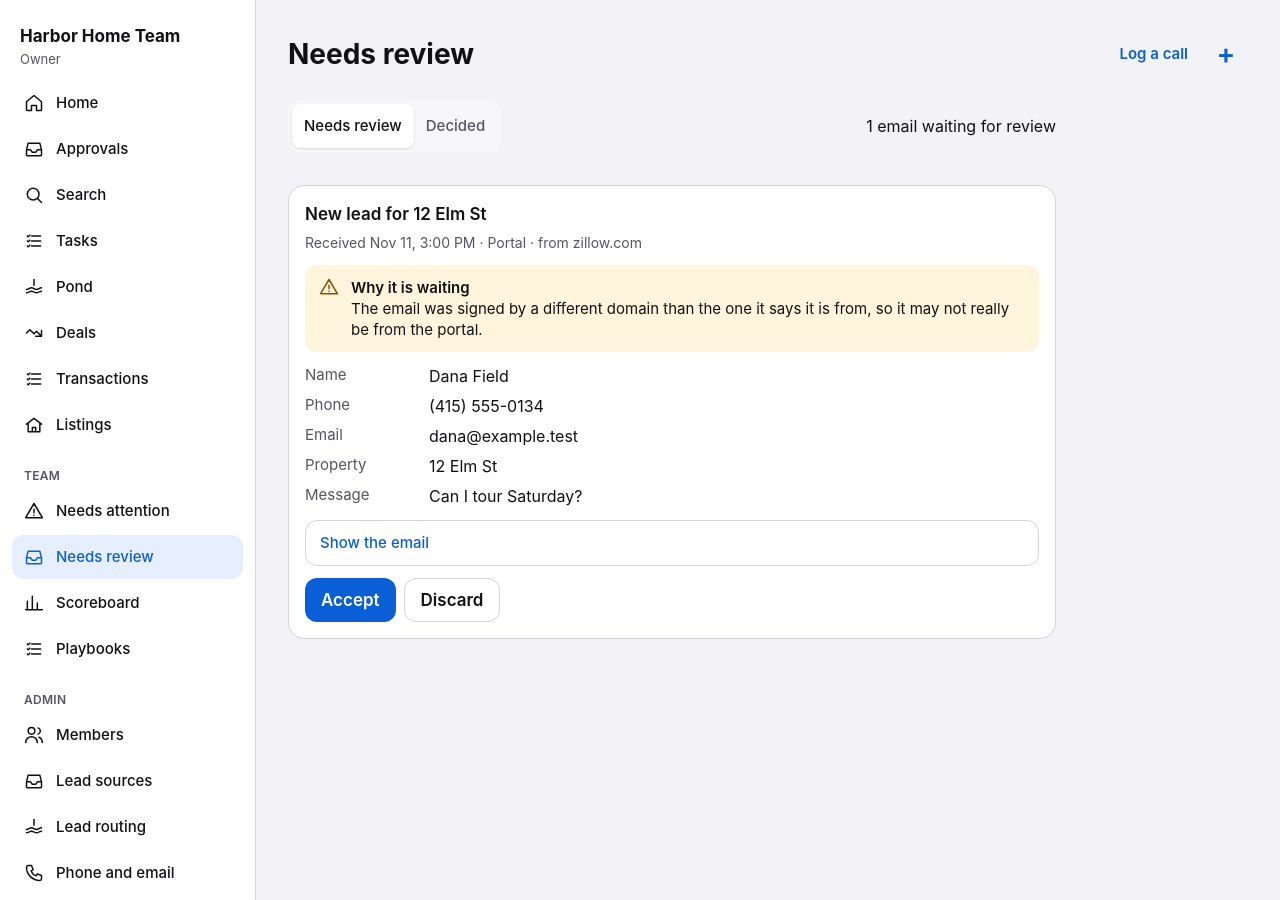
Scenario: Needs review › someone else decided first: the sentence says so and the list is fetched again
Click the button with aria-label "Accept: New lead for 12 Elm St": [350, 600] box [305,578,396,622]
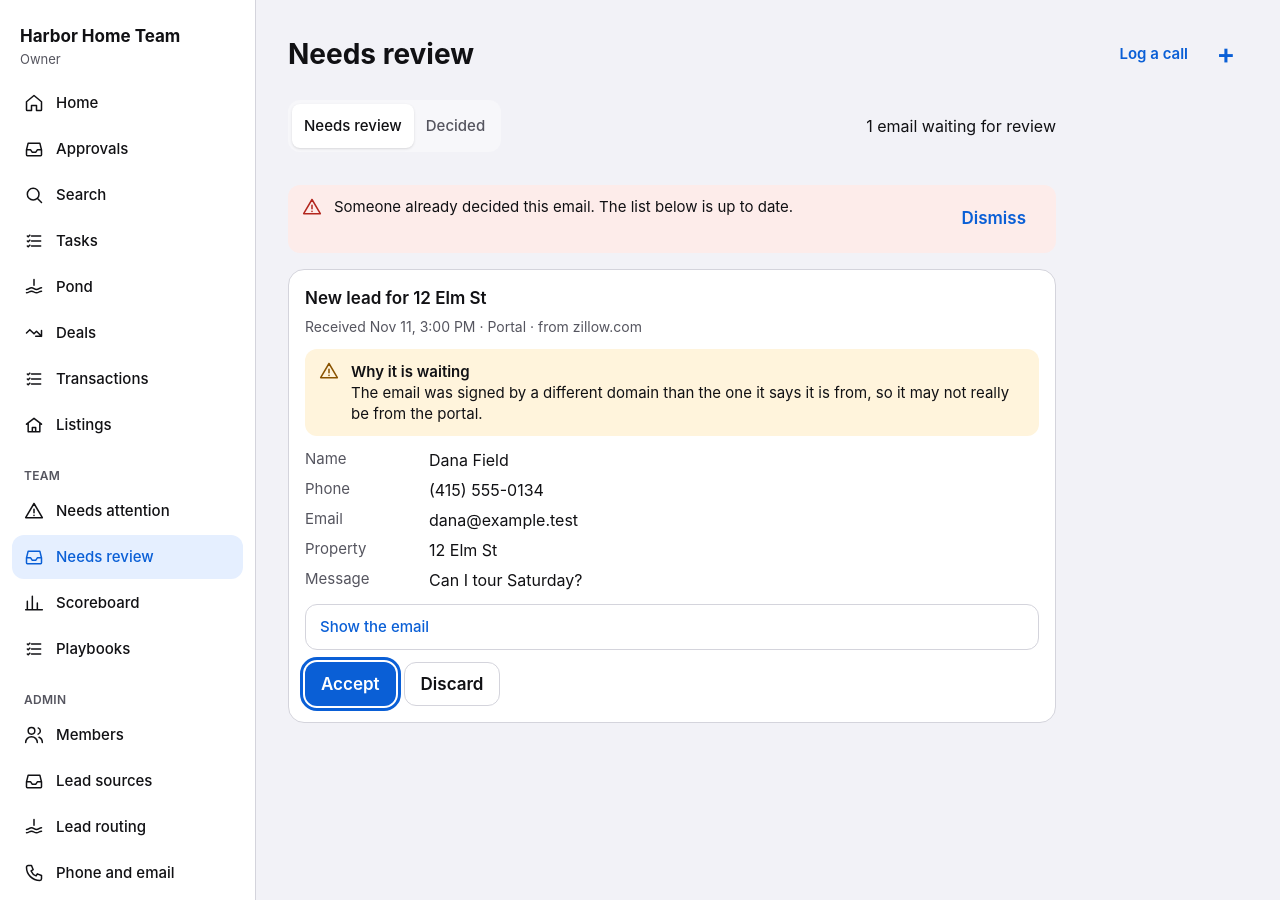
Expected: the text "Someone already decided this email. The list below is up to date." is shown, [334,197,793,216]
